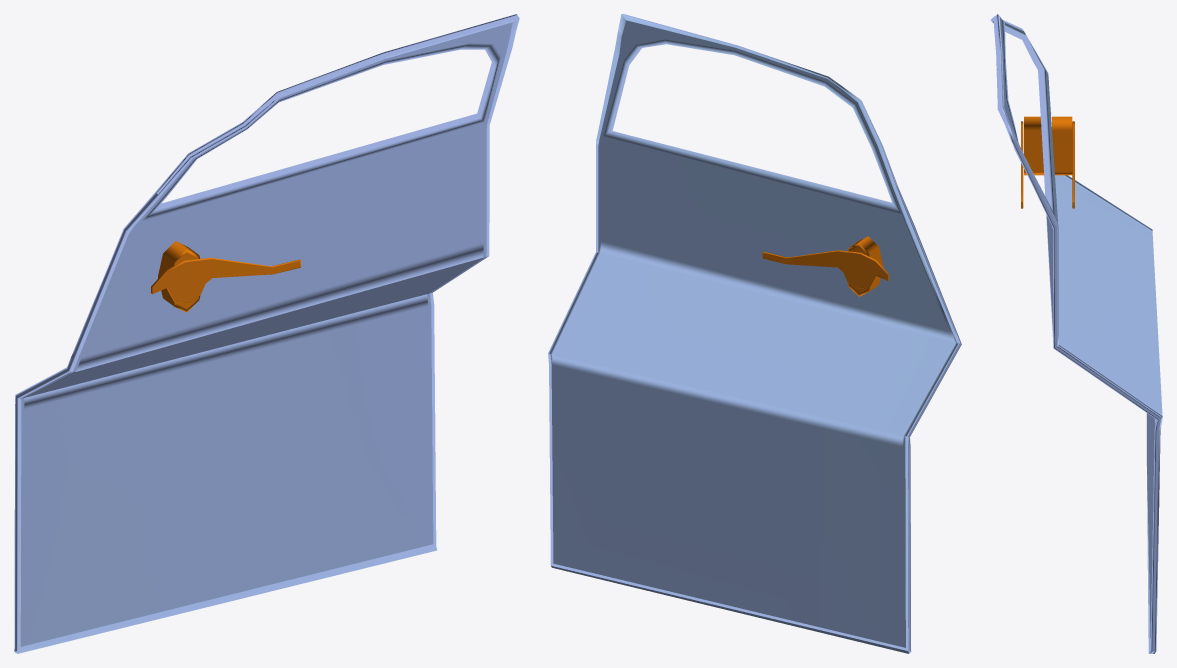
The model's file is PortasFrenteDireitaCarro.fbx.
3 views of the same model, side by side, from view 1: azimuth 30°, elevation 25°; view 2: azimuth 150°, elevation 25°; view 3: azimuth 270°, elevation 25° (orthographic). The views are drawn at different scales.
Parts seen in each view (by area): view 1: PortasFrenteDireitaCarro; view 2: PortasFrenteDireitaCarro; view 3: PortasFrenteDireitaCarro.
Part boxes in pixels (x1,y1,x2,y2): PortasFrenteDireitaCarro: [14, 14, 519, 653]; PortasFrenteDireitaCarro: [548, 14, 961, 653]; PortasFrenteDireitaCarro: [990, 14, 1162, 653].
Size of the model in its own units: 77.26 by 103 by 29.47.
